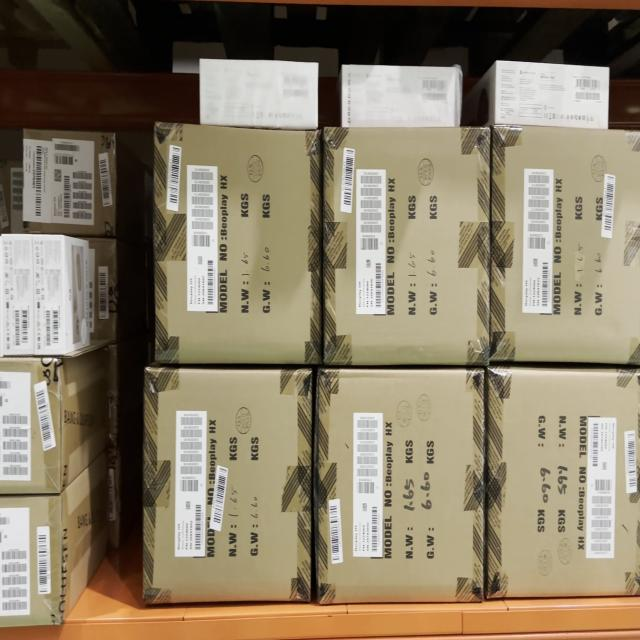box: (154, 121, 318, 368), (142, 368, 310, 599), (318, 370, 483, 603), (325, 131, 485, 369)
